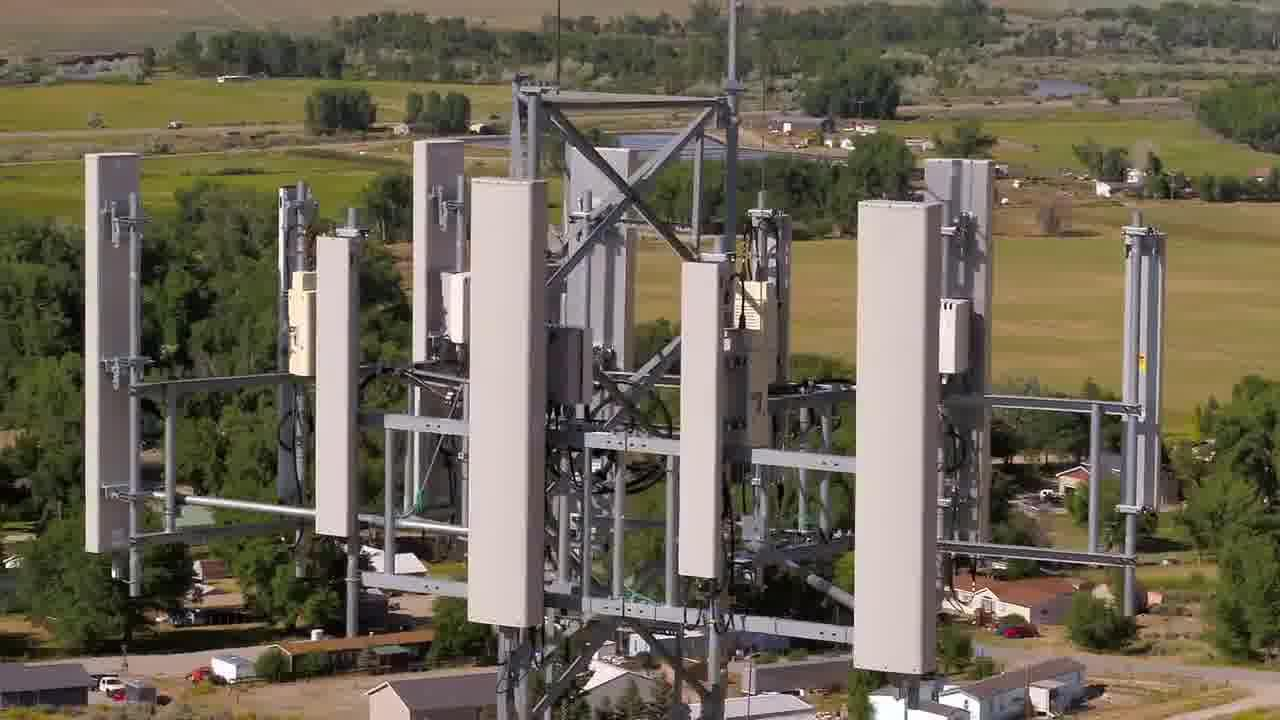antenna: (462, 172, 565, 641), (854, 180, 947, 672), (68, 150, 151, 564), (403, 122, 474, 528), (923, 145, 996, 508), (551, 129, 631, 456), (303, 213, 375, 557), (671, 253, 734, 590), (1118, 213, 1178, 530)
